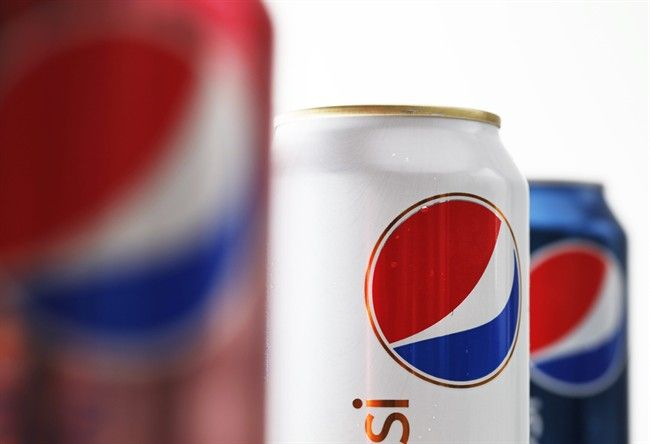can: (269, 85, 538, 444), (523, 161, 638, 444)
